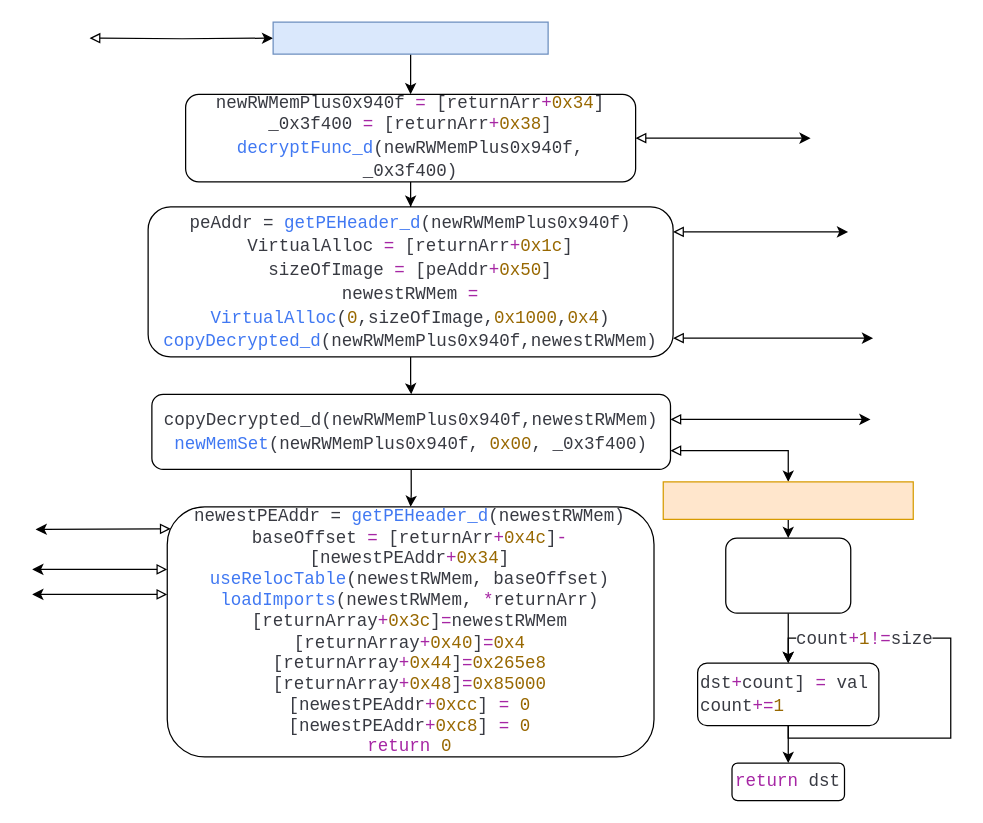
Some shapes in this 983 by 823 pixel diagram are drawn without their labels. The shapes that lost their labels are listed below. From the top down, each one's centre as x and y in pixels, then its label:
(x=410, y=37): unpackFunc_d ( * returnArr)
(x=787, y=500): newMemSet (dst, val, size)
(x=787, y=575): if size != 0 : count = 0
